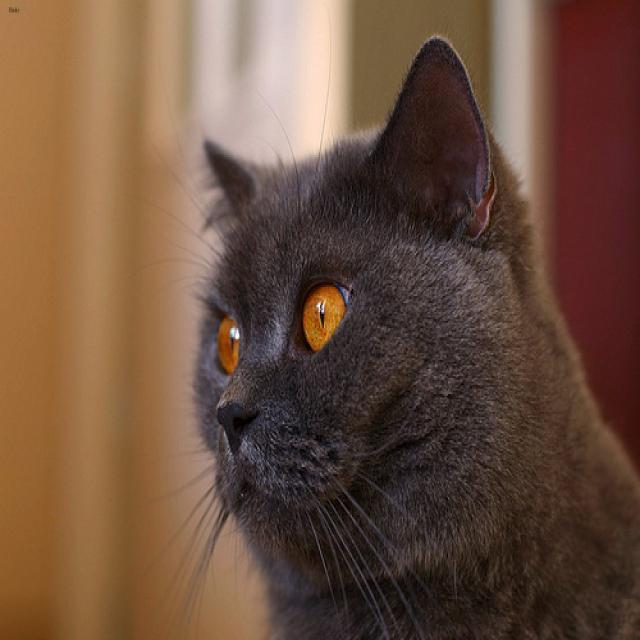British_Shorthair: (172, 14, 562, 577)
